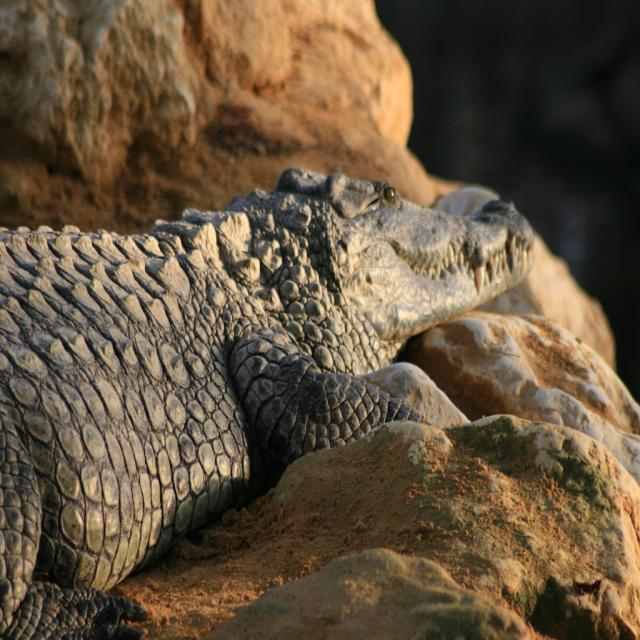crocodile: (0, 149, 583, 639)
